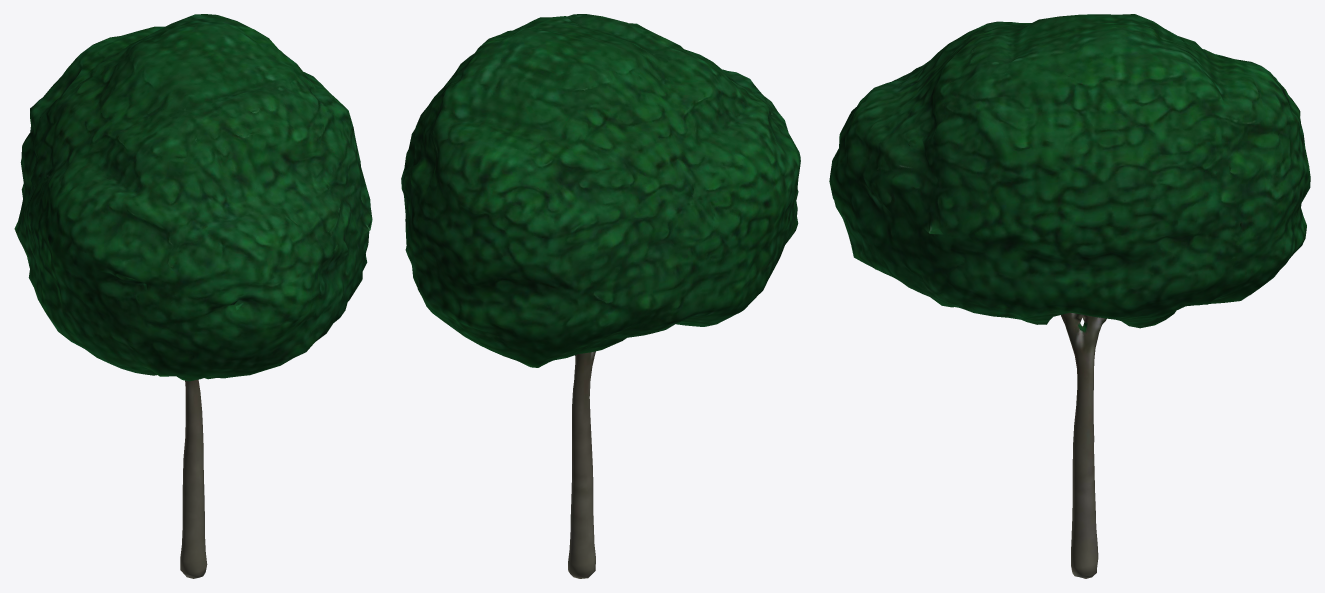
The model's file is arbol.obj.
The picture shows the model from 3 angles, left to right: view 1: azimuth 30°, elevation 25°; view 2: azimuth 150°, elevation 25°; view 3: azimuth 270°, elevation 25°; orthographic projection. The views are drawn at different scales.
Parts seen in each view (by area): view 1: arbol; view 2: arbol; view 3: arbol.
Part boxes in pixels (x1=…): arbol: x1=14, y1=14, x2=372, y2=578; arbol: x1=401, y1=14, x2=800, y2=578; arbol: x1=829, y1=14, x2=1310, y2=578.
Size of the model in its own units: 3.4 by 5.61 by 4.37.
1 material, 1 textured.
